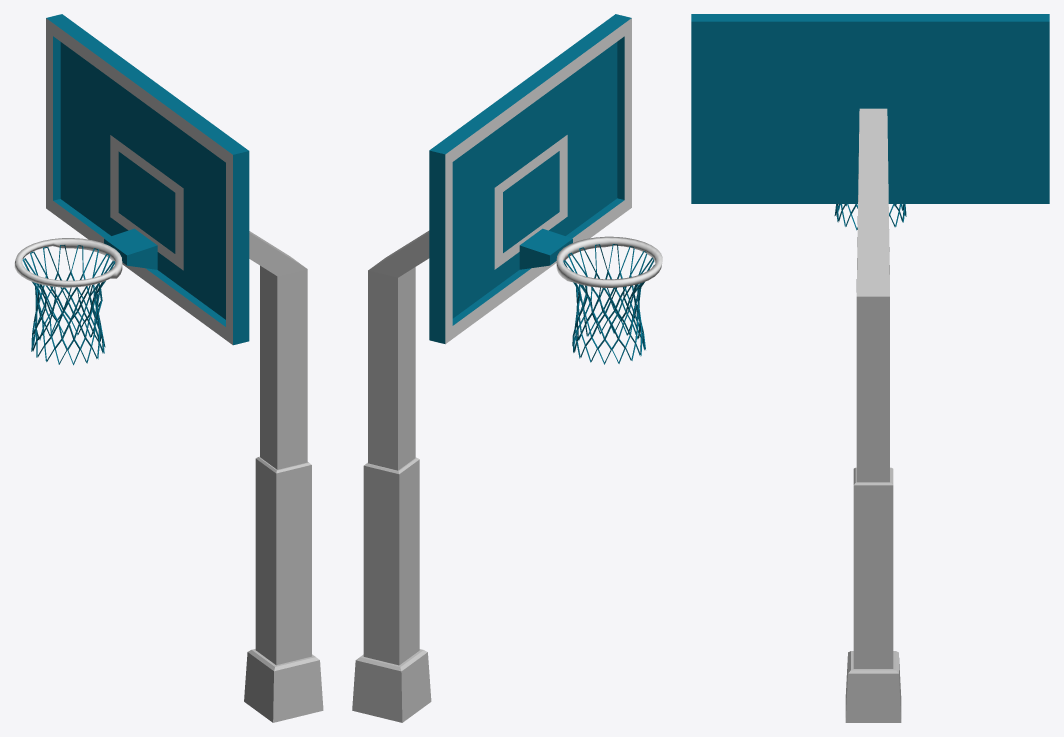
Rendered from basketball court.fbx.
The picture shows the model from 3 angles, left to right: view 1: azimuth 30°, elevation 25°; view 2: azimuth 150°, elevation 25°; view 3: azimuth 270°, elevation 25°; orthographic projection. The views are drawn at different scales.
Visible parts, largest first — view 1: Plane.002, Cube.001, Cylinder, Circle, Cube; view 2: Plane.002, Cube.001, Cylinder, Circle, Cube; view 3: Plane.002, Cube.001.
Part boxes in pixels (box(x1,y1,x2,y2)): Plane.002: box(46, 14, 249, 345); Cube.001: box(244, 231, 323, 722); Cylinder: box(22, 245, 115, 365); Circle: box(14, 238, 122, 287); Cube: box(104, 228, 157, 269); Plane.002: box(429, 14, 631, 344); Cube.001: box(352, 230, 431, 722); Cylinder: box(563, 244, 654, 364); Circle: box(556, 236, 662, 287); Cube: box(519, 228, 572, 269); Plane.002: box(691, 14, 1049, 203); Cube.001: box(845, 108, 901, 722).
Bounding box in the file's own units: 77.91 × 170 × 87.6.
